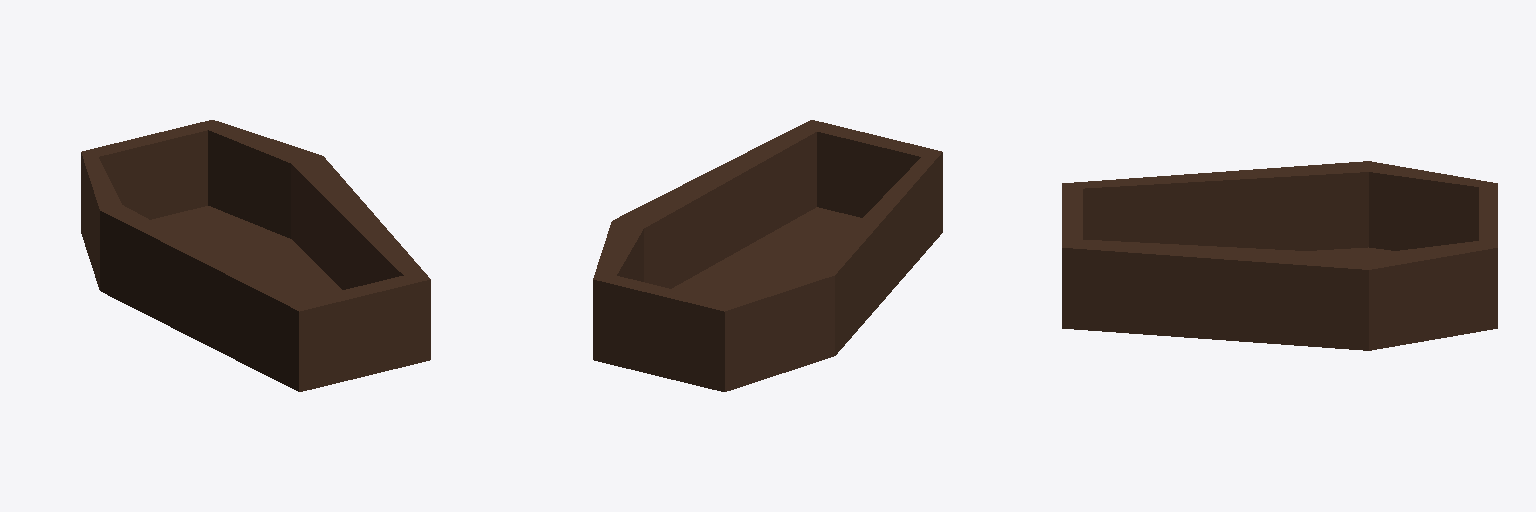
The model's file is Coffin.obj.
The picture shows the model from 3 angles: view 1: azimuth 30°, elevation 25°; view 2: azimuth 150°, elevation 25°; view 3: azimuth 270°, elevation 25°; orthographic projection.
Parts seen in each view (by area): view 1: coffin; view 2: coffin; view 3: coffin.
Boxes of the visible parts, <box> form: coffin: <box>81,120,430,391</box>; coffin: <box>593,120,942,391</box>; coffin: <box>1062,161,1497,350</box>.
Size of the model in its own units: 4.06 by 1.4 by 6.87.